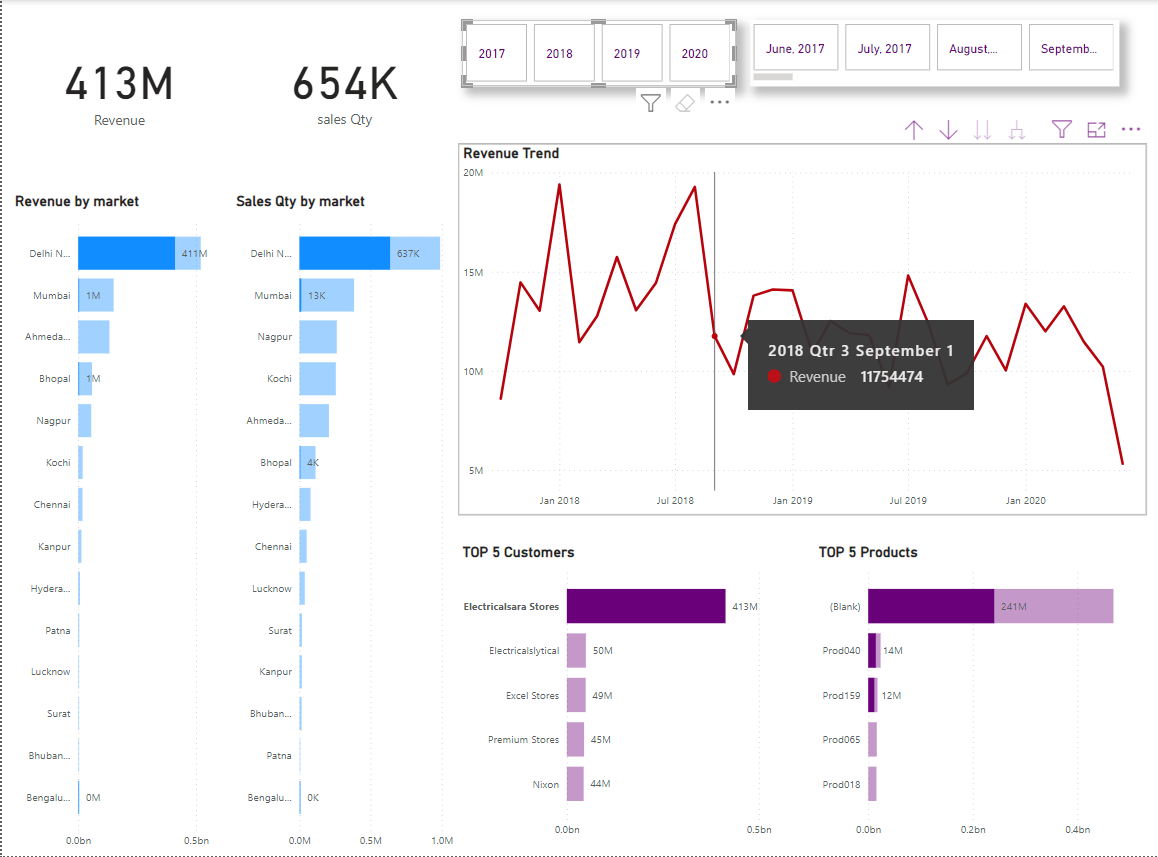

What the dashboard file says about the page in this screenshot:
{"tool":"powerbi","page":{"name":"Page 1","canvas":[1350,1000],"ordinal":0},"visuals":[{"type":"card","fields":{"Values":["BaseMeasures.Revenue"]},"box":[0,0,274.4,201.7],"z":0},{"type":"card","fields":{"Values":["BaseMeasures.sales Qty"]},"box":[263.4,0,275,201.2],"z":1000},{"type":"barChart","title":"Revenue by market","fields":{"Y":["BaseMeasures.Revenue"],"Category":["sales markets.markets_name"]},"box":[10.2,224.8,264.2,775.2],"z":2000},{"type":"barChart","title":"Sales Qty by market","fields":{"Y":["BaseMeasures.sales Qty"],"Category":["sales markets.markets_name"]},"box":[268.6,224.8,264.2,775.2],"z":3000},{"type":"advancedSlicerVisual","title":"month","fields":{"Values":["sales date.cy_date"]},"box":[873,23.4,432.1,77.4],"z":4000},{"type":"advancedSlicerVisual","fields":{"Values":["sales date.year"]},"box":[537.2,23.4,319.7,77.4],"z":5000},{"type":"barChart","title":"TOP 5 Customers","fields":{"Y":["BaseMeasures.Revenue"],"Category":["sales customers.custmer_name"]},"box":[532.8,635,416.1,351.8],"z":5001},{"type":"barChart","title":"TOP 5 Products","fields":{"Y":["BaseMeasures.Revenue"],"Category":["sales products.product_code"]},"box":[948.9,635,388.3,351.8],"z":5002},{"type":"lineChart","title":"Revenue Trend","fields":{"Y":["BaseMeasures.Revenue"],"Category":["sales date.cy_date.Variation.Date Hierarchy.Year","sales date.cy_date.Variation.Date Hierarchy.Quarter","sales date.cy_date.Variation.Date Hierarchy.Month","sales date.cy_date.Variation.Date Hierarchy.Day"]},"box":[532.8,167.9,804.4,433.6],"z":5003}]}

Visuals, with their boxes in screenshot pixels (x1, y1, x2, y2), scaled from the page's 1350x1000 canvas onto the 1158x857 screenshot:
card - BaseMeasures.Revenue: [0,0,235,173]
card - BaseMeasures.sales Qty: [226,0,462,172]
"Revenue by market" barChart: [9,193,235,856]
"Sales Qty by market" barChart: [230,193,457,856]
"month" advancedSlicerVisual: [749,20,1119,86]
advancedSlicerVisual - sales date.year: [461,20,735,86]
"TOP 5 Customers" barChart: [457,544,814,846]
"TOP 5 Products" barChart: [814,544,1147,846]
"Revenue Trend" lineChart: [457,144,1147,515]
